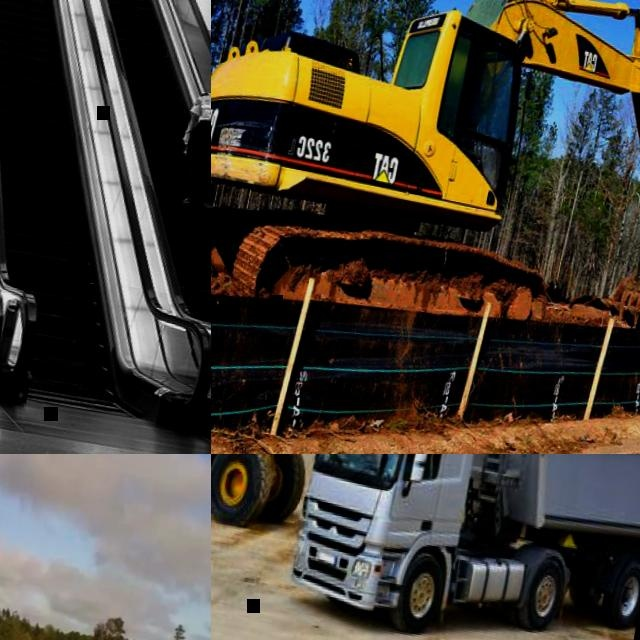NO-Safety Vest: (197, 91, 211, 126)
Person: (169, 65, 211, 215)
machinery: (211, 0, 640, 348), (286, 454, 640, 640), (211, 454, 415, 554)
